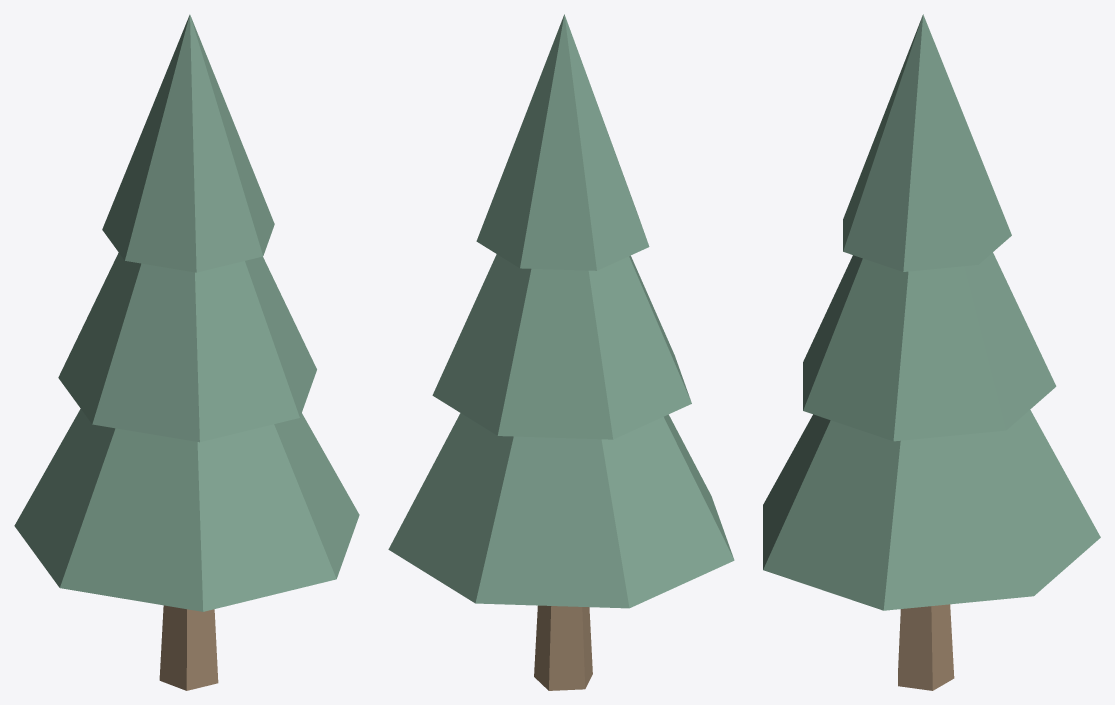
The model's file is pine_tree.glb.
The picture shows the model from 3 angles, left to right: view 1: azimuth 30°, elevation 25°; view 2: azimuth 150°, elevation 25°; view 3: azimuth 270°, elevation 25°; orthographic projection.
Visible parts, largest first — view 1: pine_tree_MAT_leaf, pine_tree_MAT_wood; view 2: pine_tree_MAT_leaf, pine_tree_MAT_wood; view 3: pine_tree_MAT_leaf, pine_tree_MAT_wood.
Part boxes in pixels (x1,y1,x2,y2): pine_tree_MAT_leaf: (14,14,359,611); pine_tree_MAT_wood: (159,605,218,690); pine_tree_MAT_leaf: (388,14,734,608); pine_tree_MAT_wood: (534,605,592,690); pine_tree_MAT_leaf: (763,14,1100,610); pine_tree_MAT_wood: (898,604,954,690).
Size of the model in its own units: 1.56 by 3.3 by 1.52.
